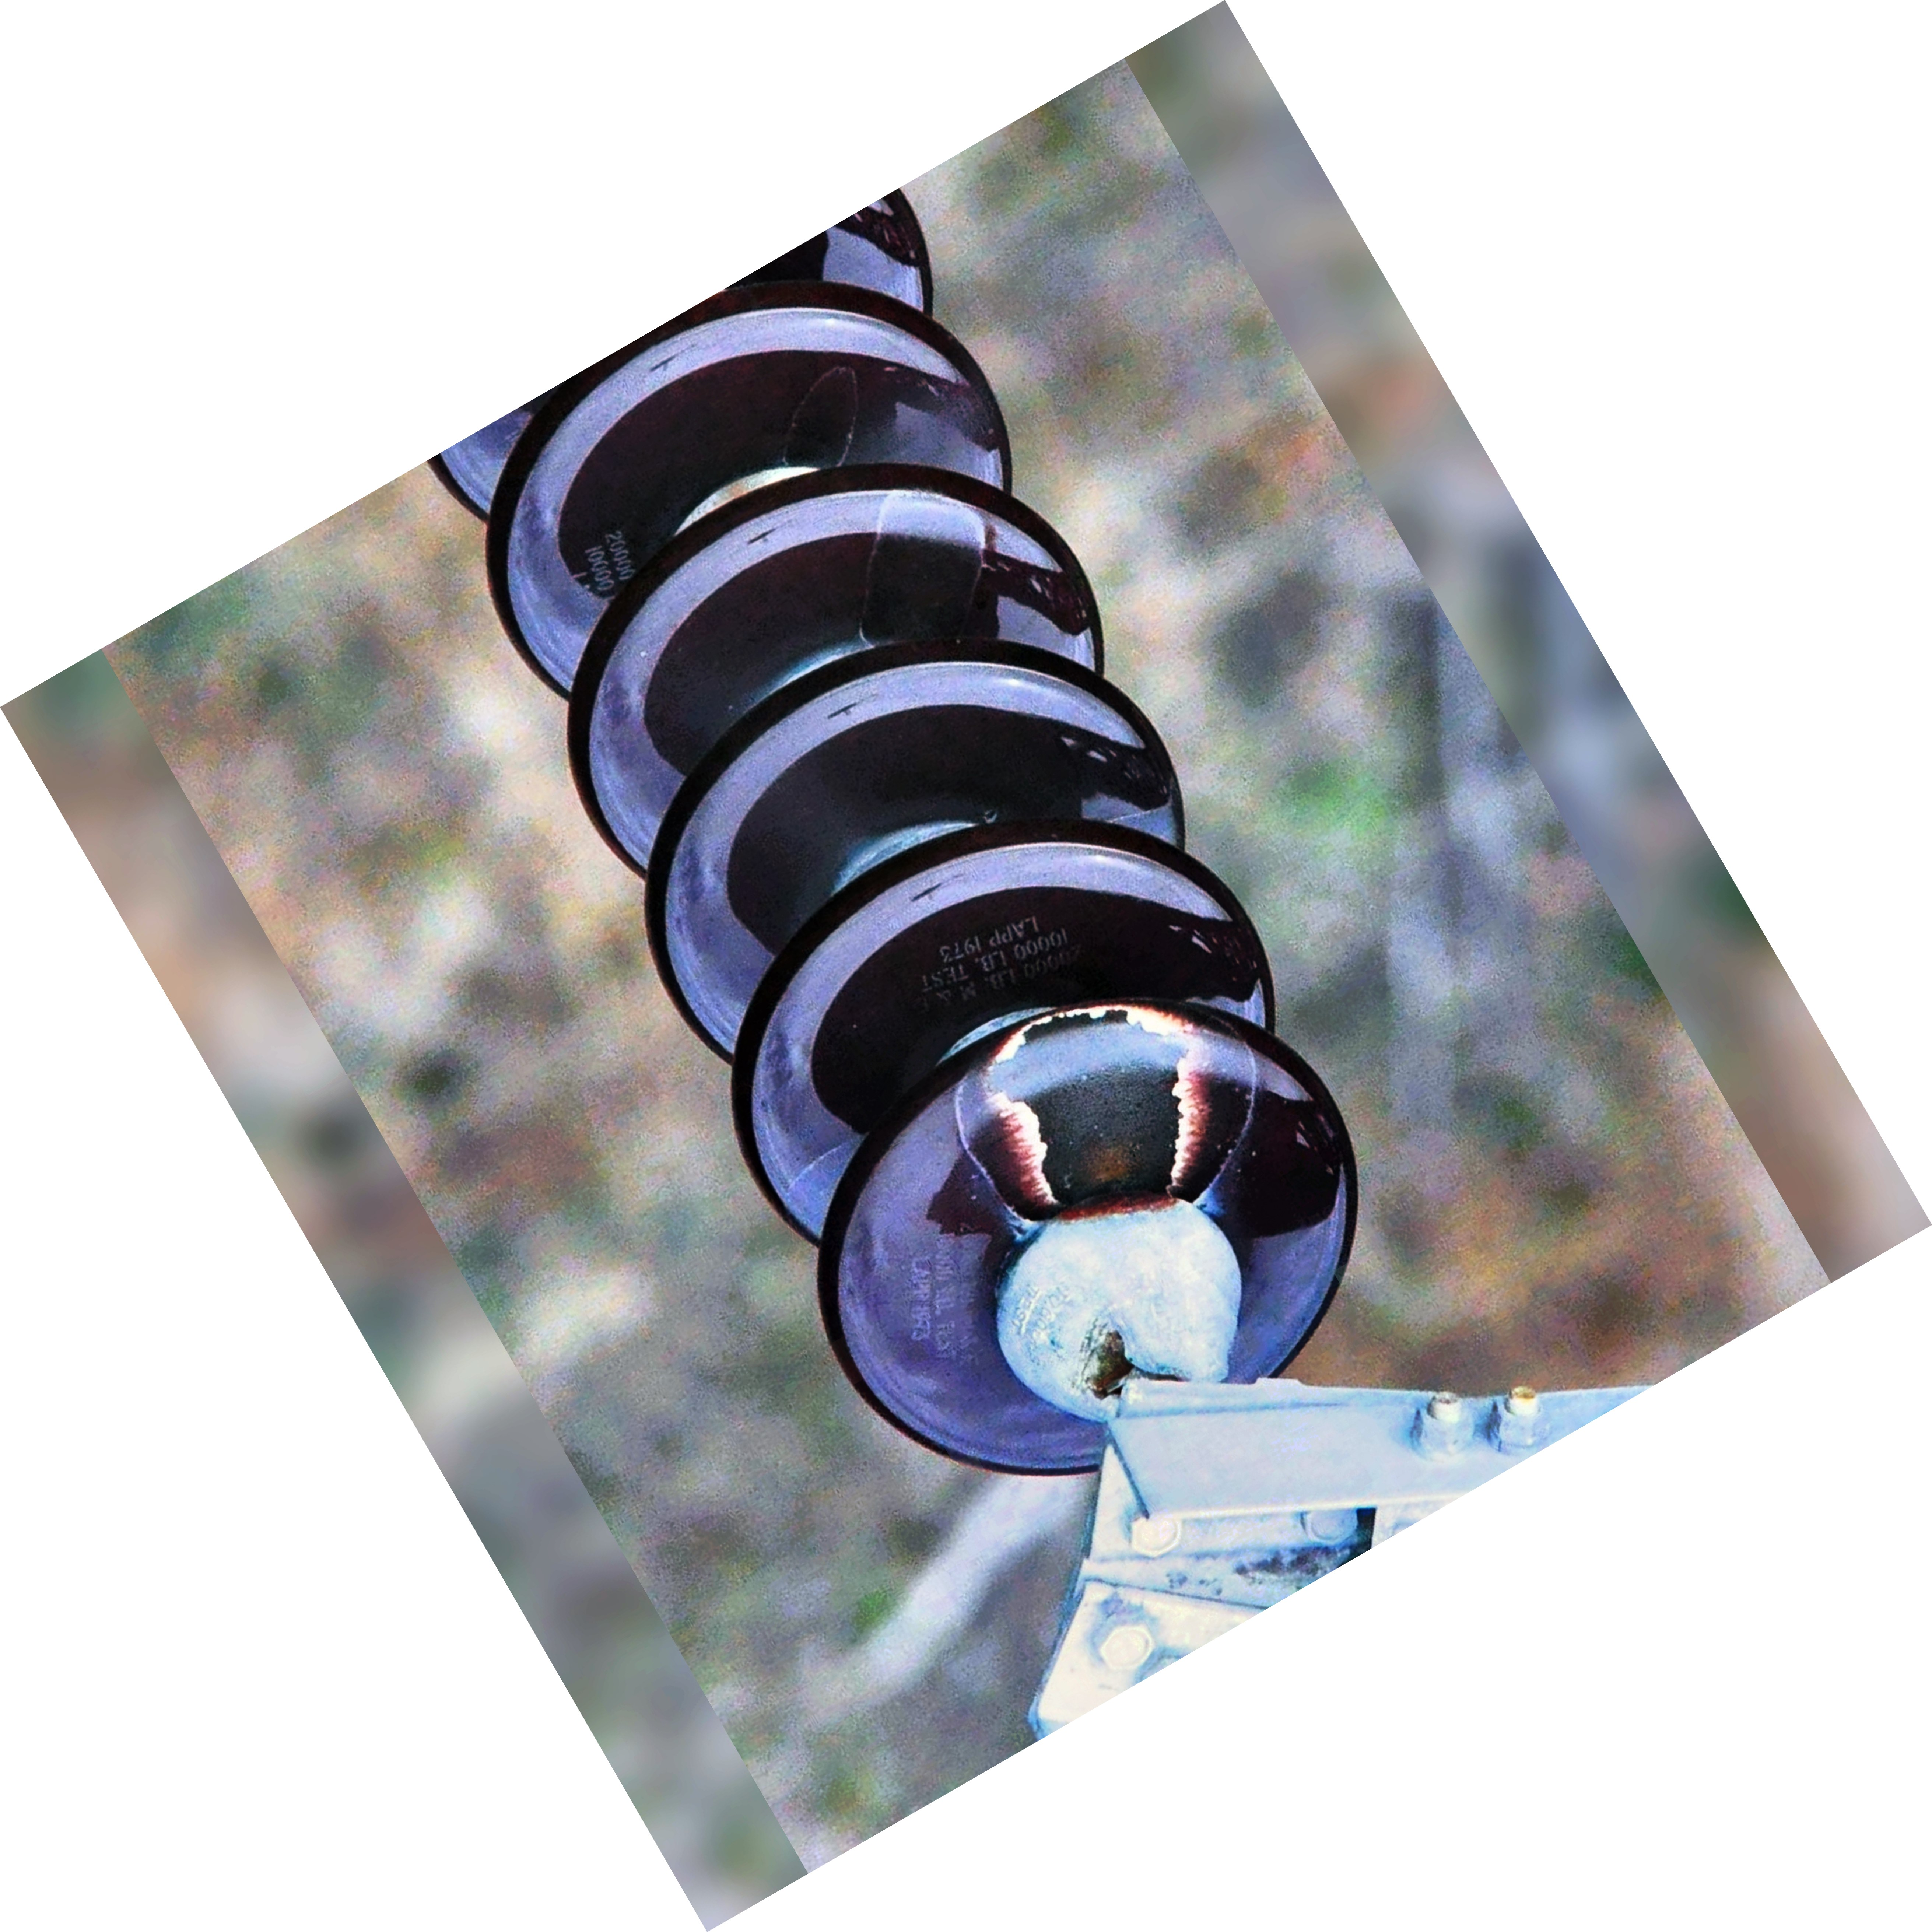Insulator flashover: (807, 973, 1391, 1509)
